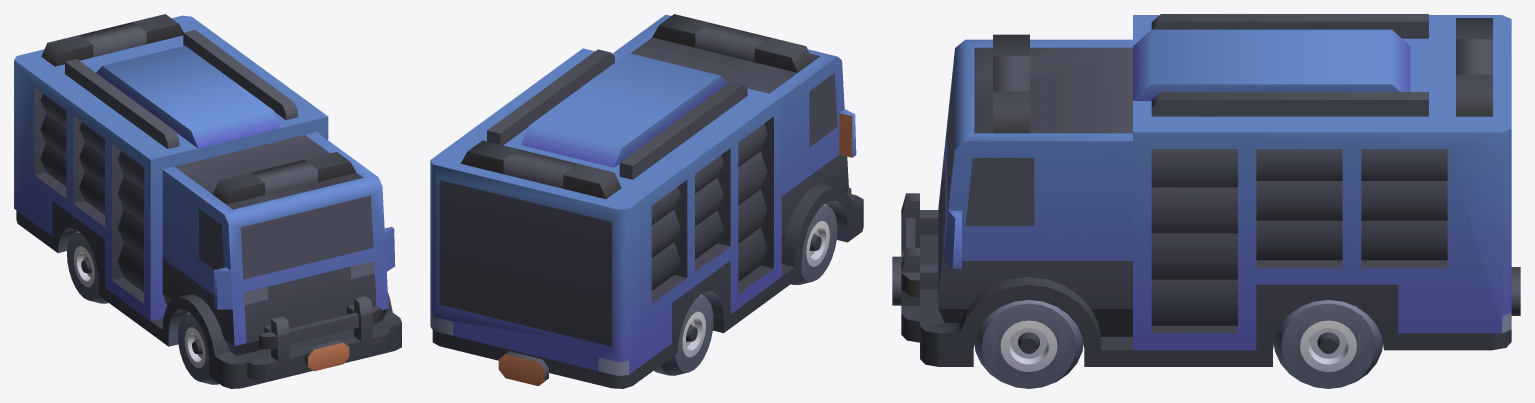
File: firetruck-transformed.glb
3 renders of one model, left to right at view 1: azimuth 30°, elevation 25°; view 2: azimuth 150°, elevation 25°; view 3: azimuth 270°, elevation 25°, orthographic. The views are drawn at different scales.
Parts seen in each view (by area): view 1: body; view 2: body; view 3: body.
Part boxes in pixels (x1,y1,x2,y2): body: [14, 14, 401, 388]; body: [430, 14, 863, 388]; body: [892, 14, 1520, 388].
Bounding box in the file's own units: 1.5 × 1.7 × 3.4.
Materials: 1 (1 with a texture image).
